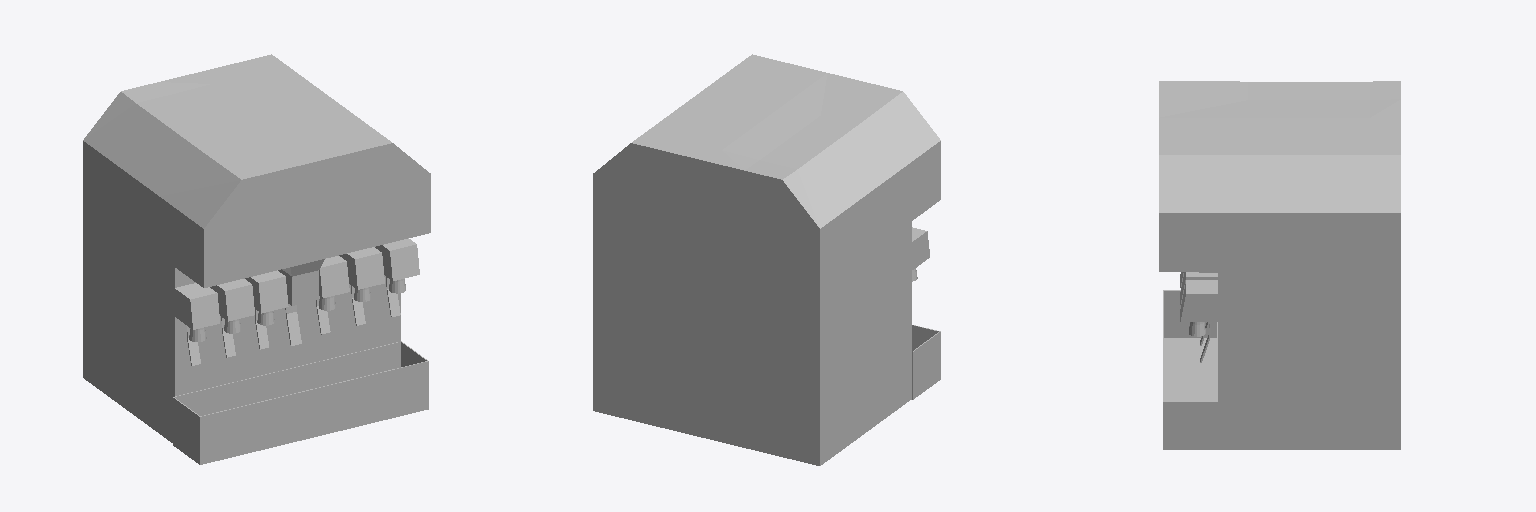
Rendered from DrinkMachine001.obj.
3 renders of one model, left to right at view 1: azimuth 30°, elevation 25°; view 2: azimuth 150°, elevation 25°; view 3: azimuth 270°, elevation 25°, orthographic.
Parts seen in each view (by area): view 1: DrinkMachine001Smoothed; view 2: DrinkMachine001Smoothed; view 3: DrinkMachine001Smoothed.
Boxes of the visible parts, <box> form: DrinkMachine001Smoothed: <box>83,54,430,464</box>; DrinkMachine001Smoothed: <box>593,54,940,465</box>; DrinkMachine001Smoothed: <box>1159,81,1400,449</box>.
Size of the model in its own units: 30.27 by 35.05 by 27.72.